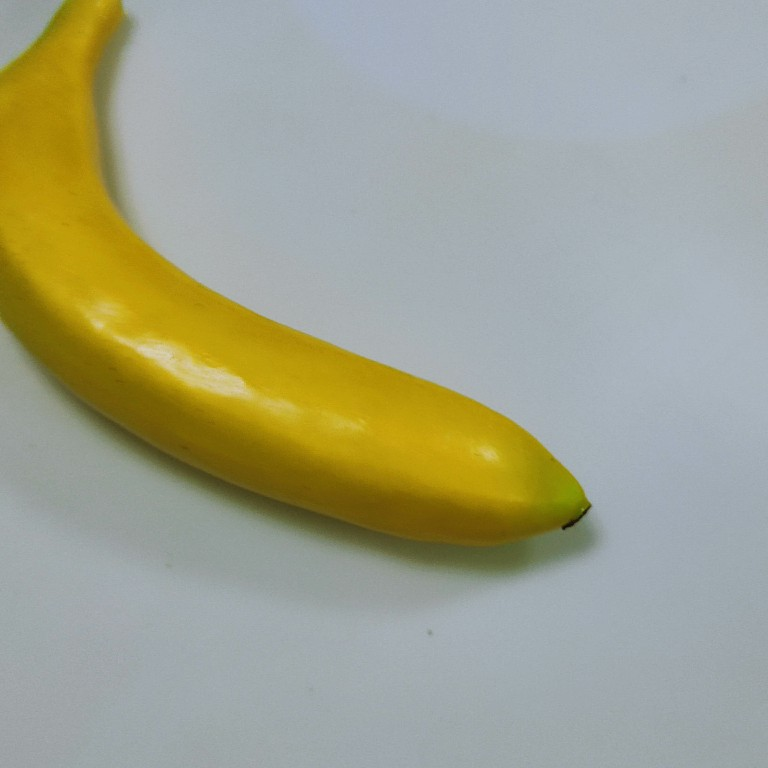fruit_banana: (1, 1, 601, 552)
